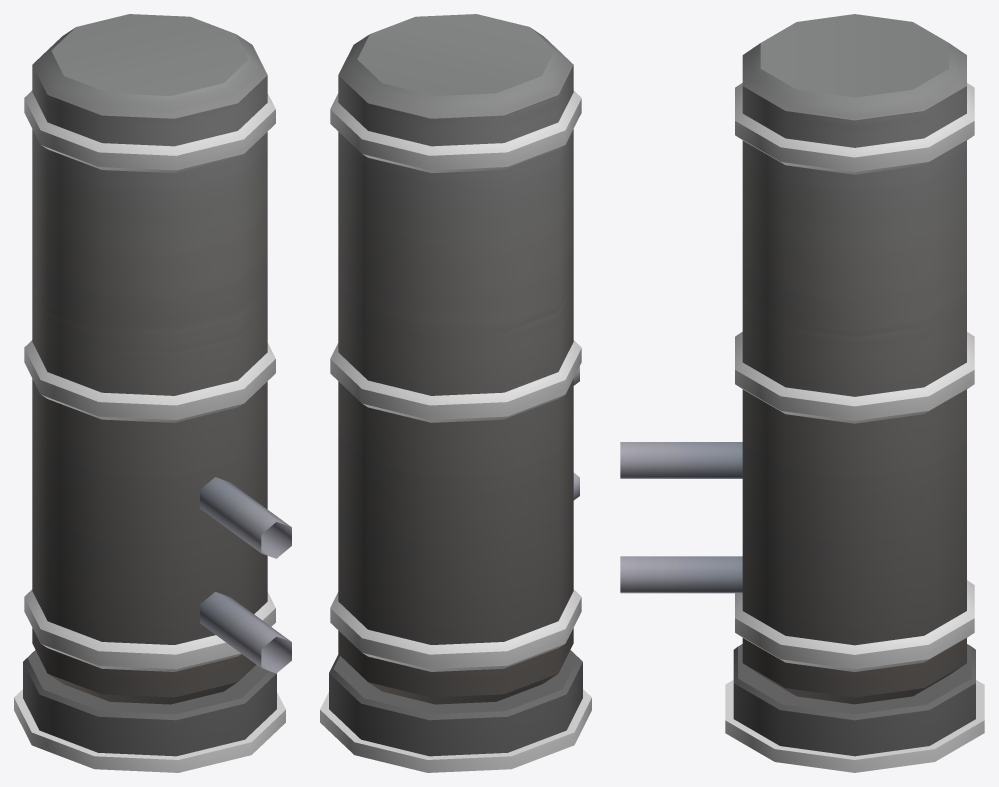
File: GasTank_1_A.fbx
3 renders of one model, left to right at view 1: azimuth 30°, elevation 25°; view 2: azimuth 150°, elevation 25°; view 3: azimuth 270°, elevation 25°, orthographic.
Parts seen in each view (by area): view 1: GasTank_1_A; view 2: GasTank_1_A; view 3: GasTank_1_A.
Part boxes in pixels (x1=…): GasTank_1_A: x1=14, y1=14, x2=291, y2=772; GasTank_1_A: x1=320, y1=14, x2=591, y2=772; GasTank_1_A: x1=620, y1=14, x2=984, y2=772.
Size of the model in its own units: 284 by 758 by 379.
